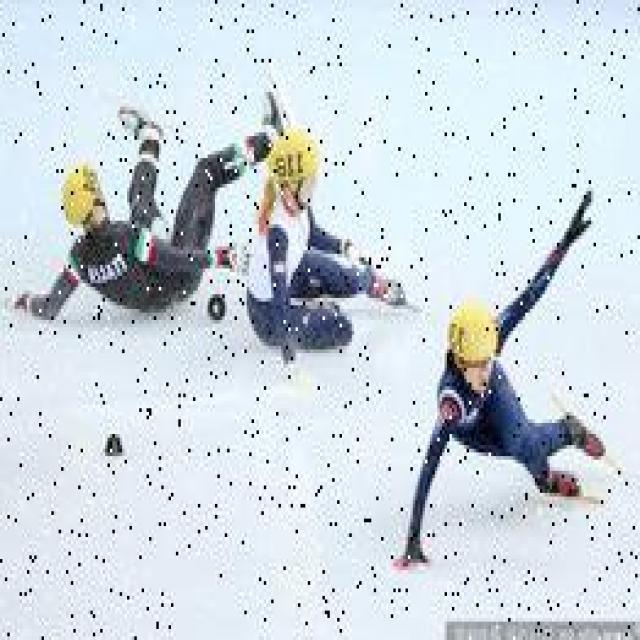fall: (17, 80, 264, 316), (252, 128, 393, 360)
